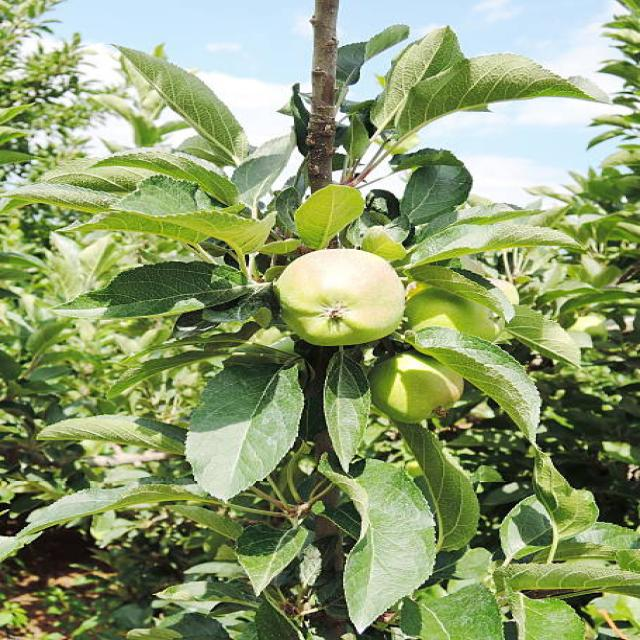Unripe: (278, 248, 404, 346)
